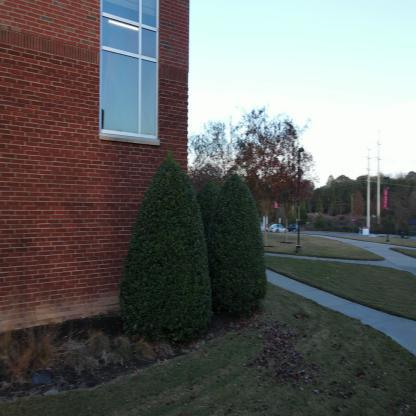Wolf Ridge: (0, 1, 197, 329)
